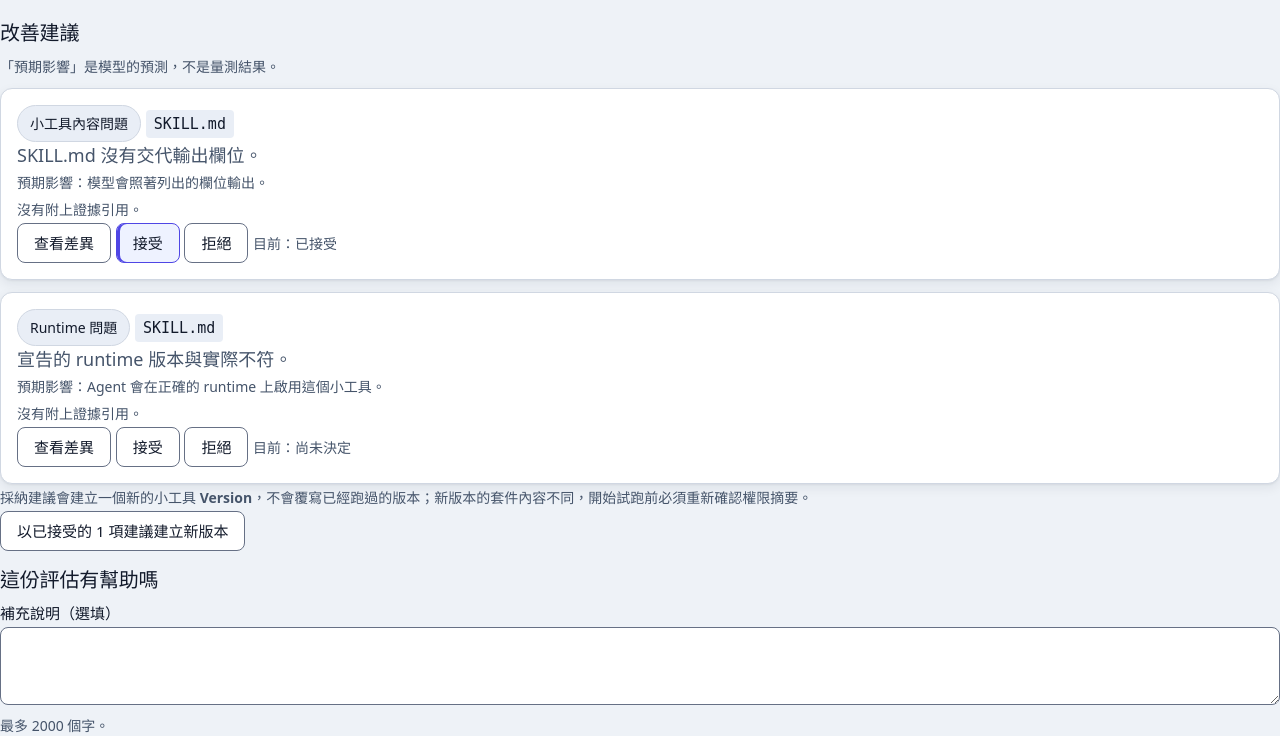
Scenario: EVAL-011 the rerun link keeps object context in the path and the new version in search
(page scrolled)
Step 1. Click the button "以已接受的 1 項建議建立新版本" → (123, 531), box [0,511,245,551]
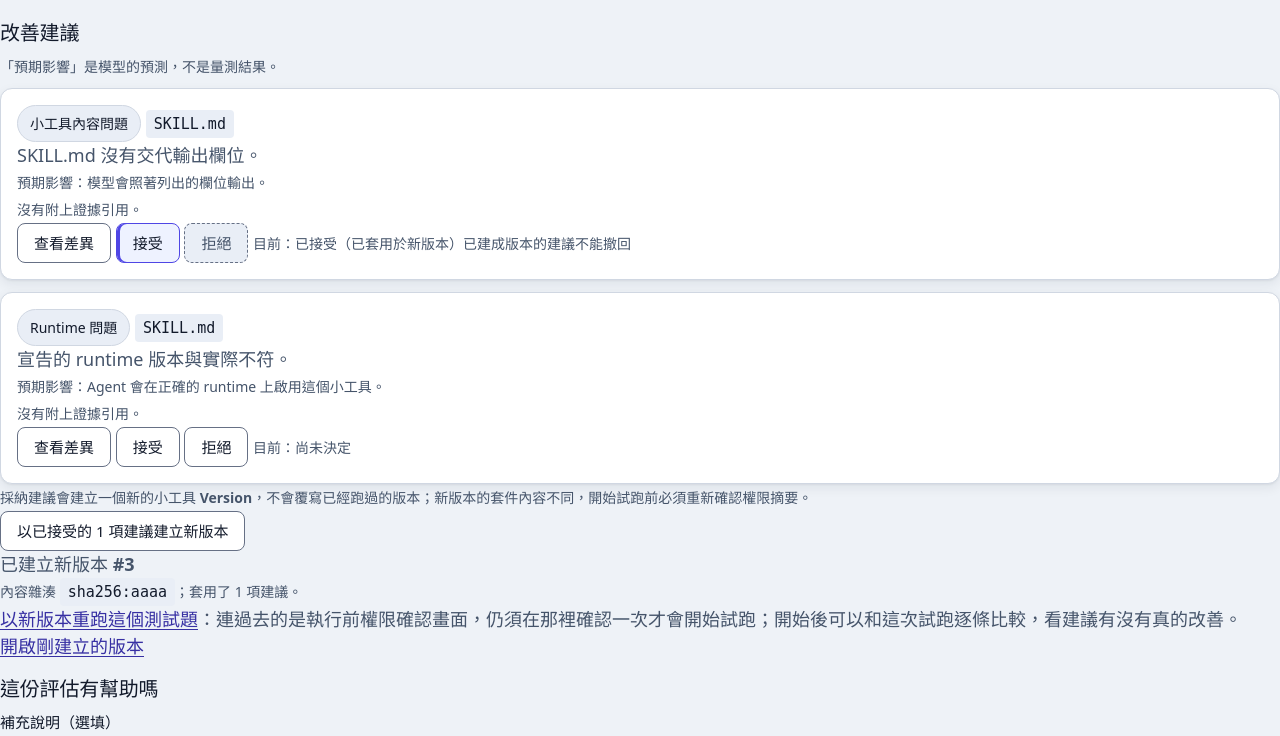
Check: the link "開啟剛建立的版本" is shown, box [0,634,144,658]
Check: the text "以新版本重跑這個測試題" is shown, box [0,607,198,631]
Check: the text "執行前權限確認畫面" is shown, box [198,607,1242,631]
